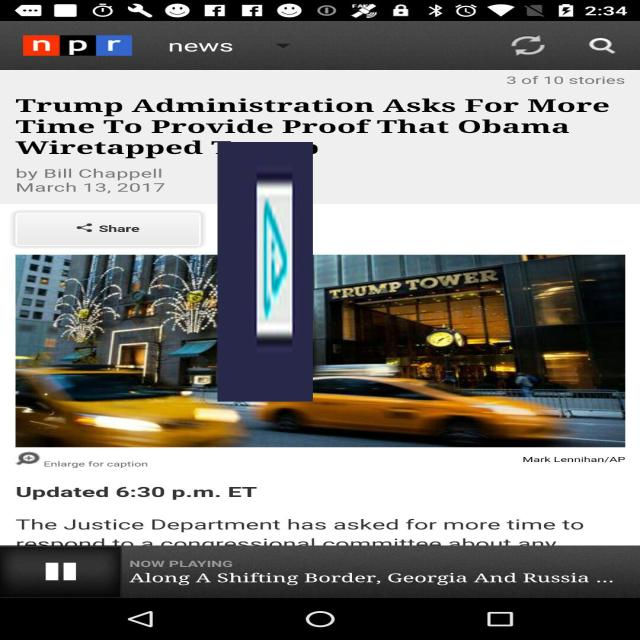sneaking: (217, 142, 313, 402)
